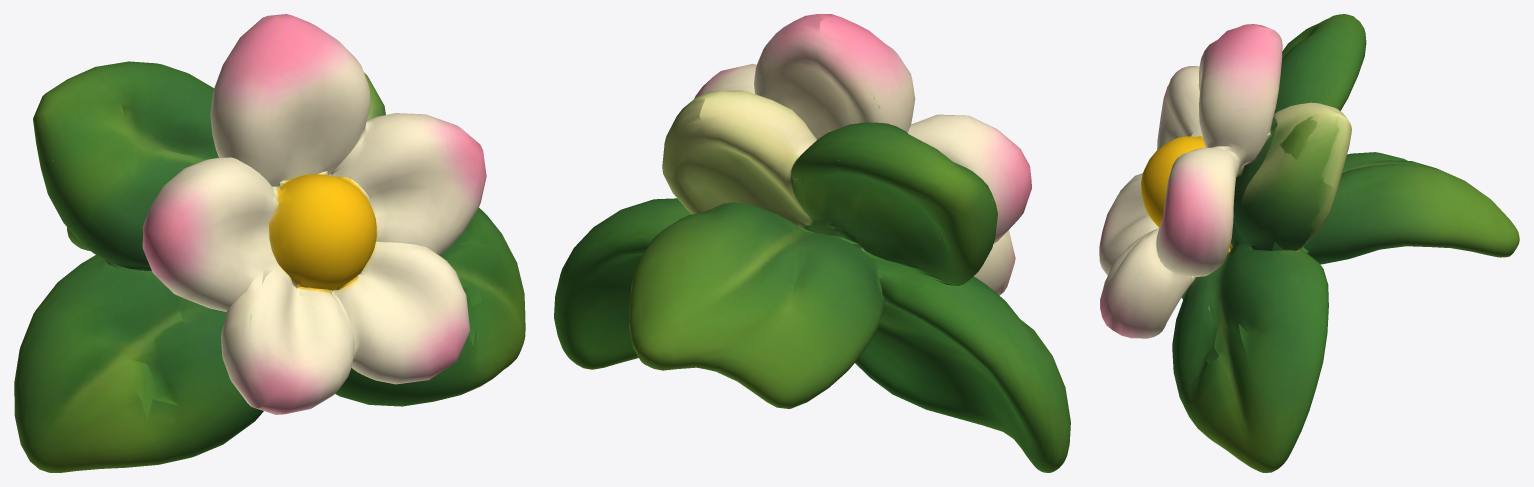
File: berry-flower.glb
3 renders of one model, left to right at view 1: azimuth 30°, elevation 25°; view 2: azimuth 150°, elevation 25°; view 3: azimuth 270°, elevation 25°, orthographic. The views are drawn at different scales.
Visible parts, largest first — view 1: Mesh_0; view 2: Mesh_0; view 3: Mesh_0.
Part boxes in pixels (bbox=[...]): Mesh_0: bbox=[14, 14, 525, 472]; Mesh_0: bbox=[554, 14, 1070, 472]; Mesh_0: bbox=[1099, 14, 1519, 472].
Bounding box in the file's own units: 1.31 × 1 × 1.09.
1 material, 1 textured.
